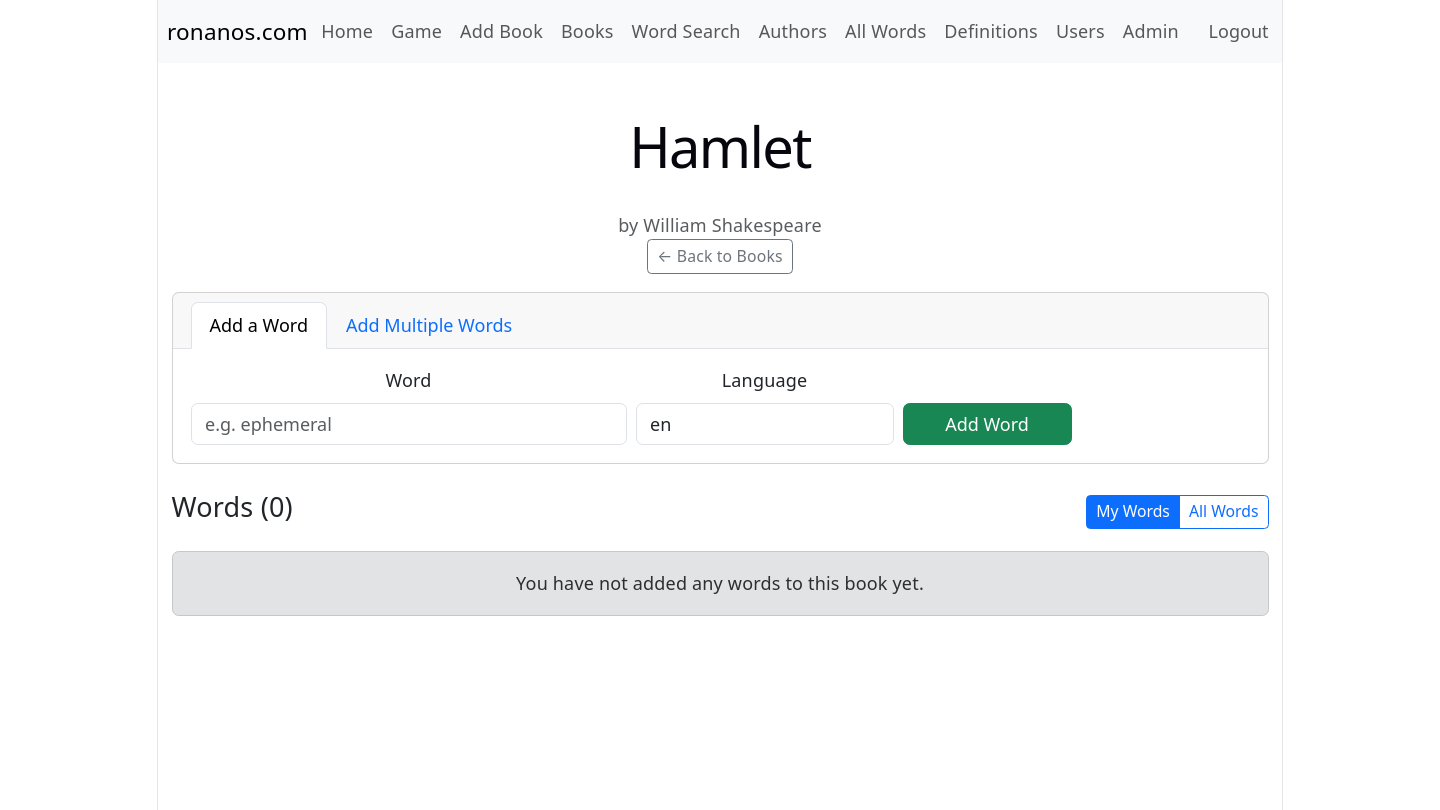
Test case: BookDetail › shows conflict error when word already added
Expected: the heading "Hamlet" is shown, [629,108,811,184]
Step 1. Type "ephemeral" into the field with placeholder "e.g. ephemeral" → (408, 424), box [190,403,626,445]
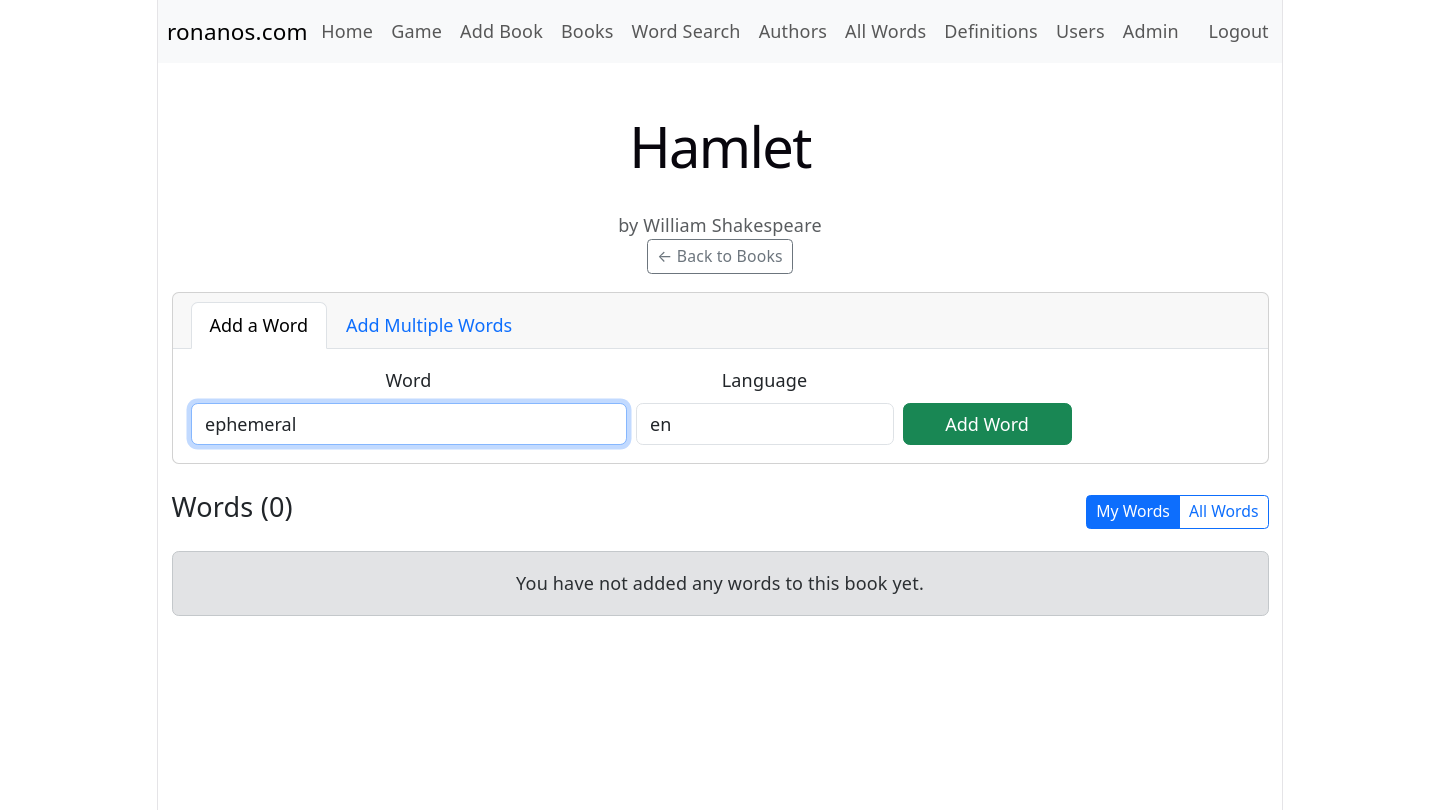
Step 2. Click the button "Add Word" → click(987, 424), box [902,403,1072,445]
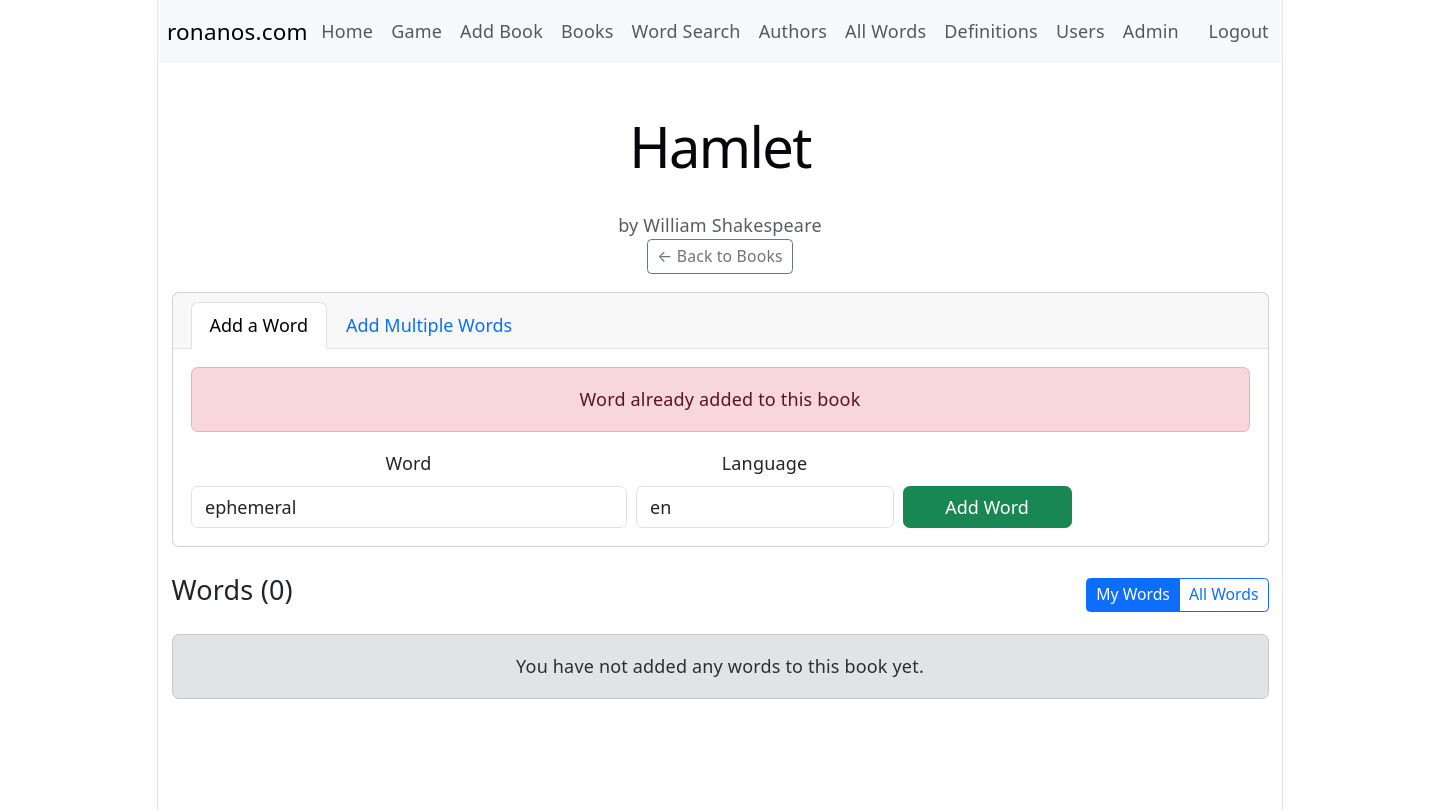
Result: the text "Word already added to this book" is shown at [190,367,1250,432]
